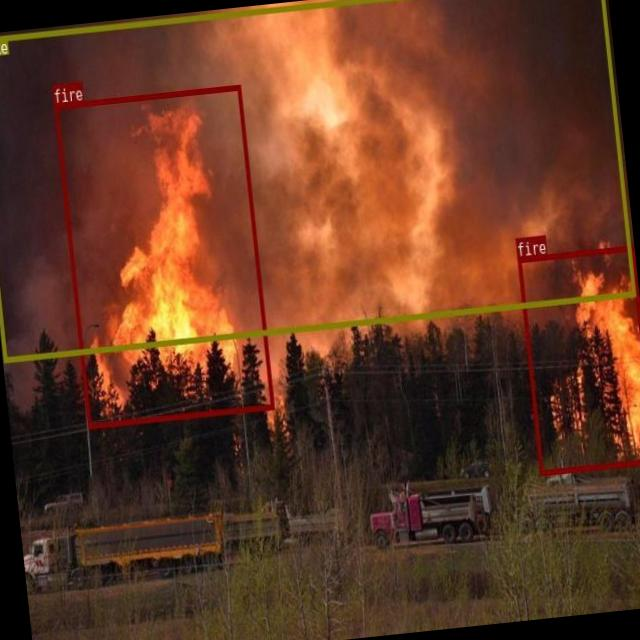fire: (53, 84, 273, 428), (516, 244, 640, 474)
smoke: (0, 0, 635, 360)
